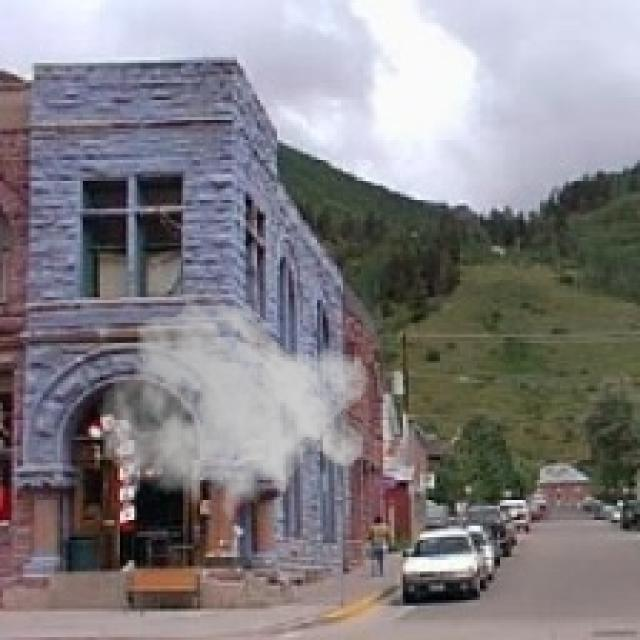Smoke: (97, 288, 372, 532)
